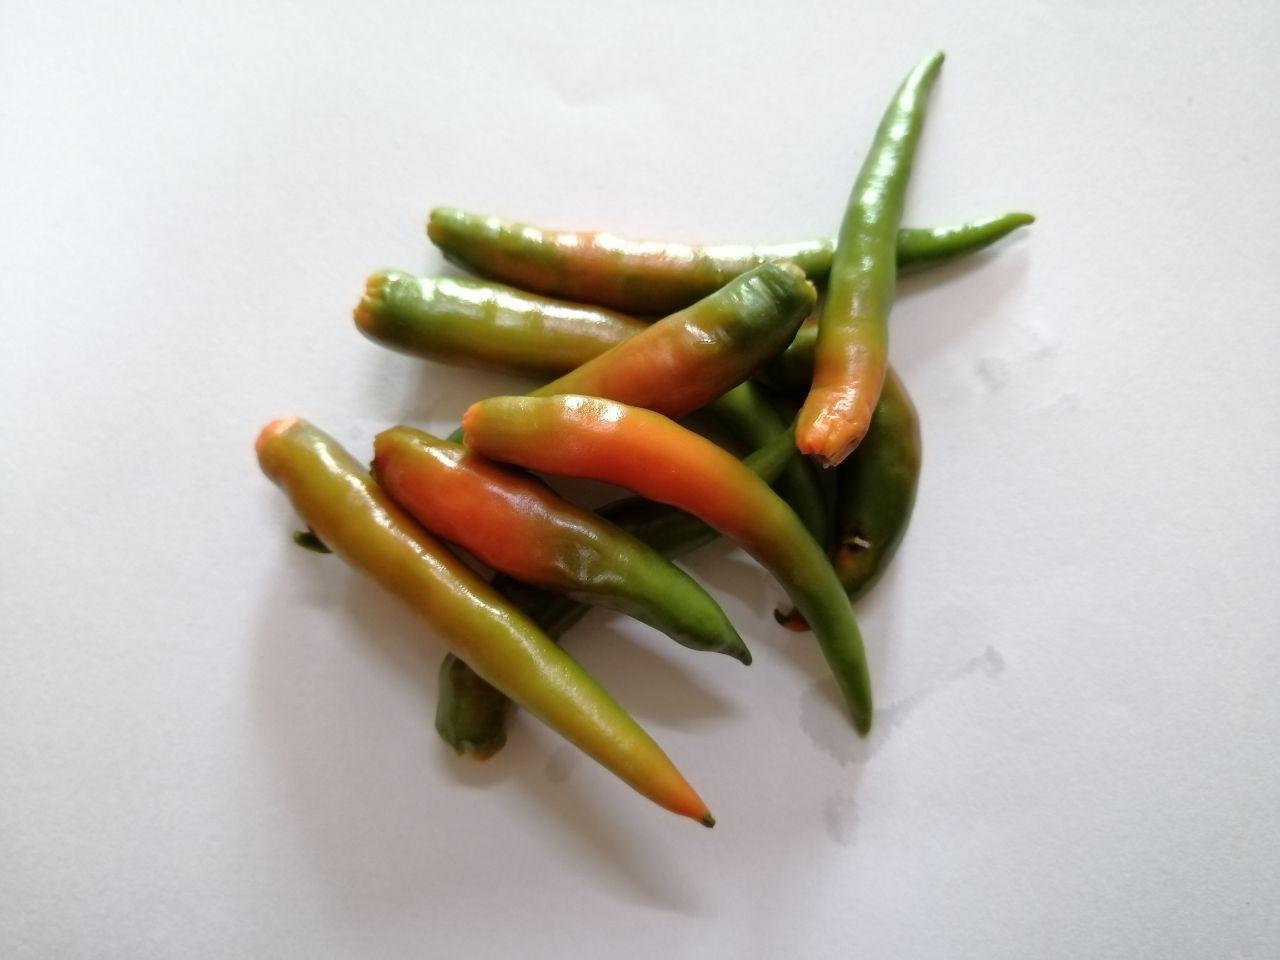lada hijau: (793, 44, 991, 399)
lada kuning: (243, 405, 743, 850), (459, 327, 905, 758), (358, 406, 768, 715)
